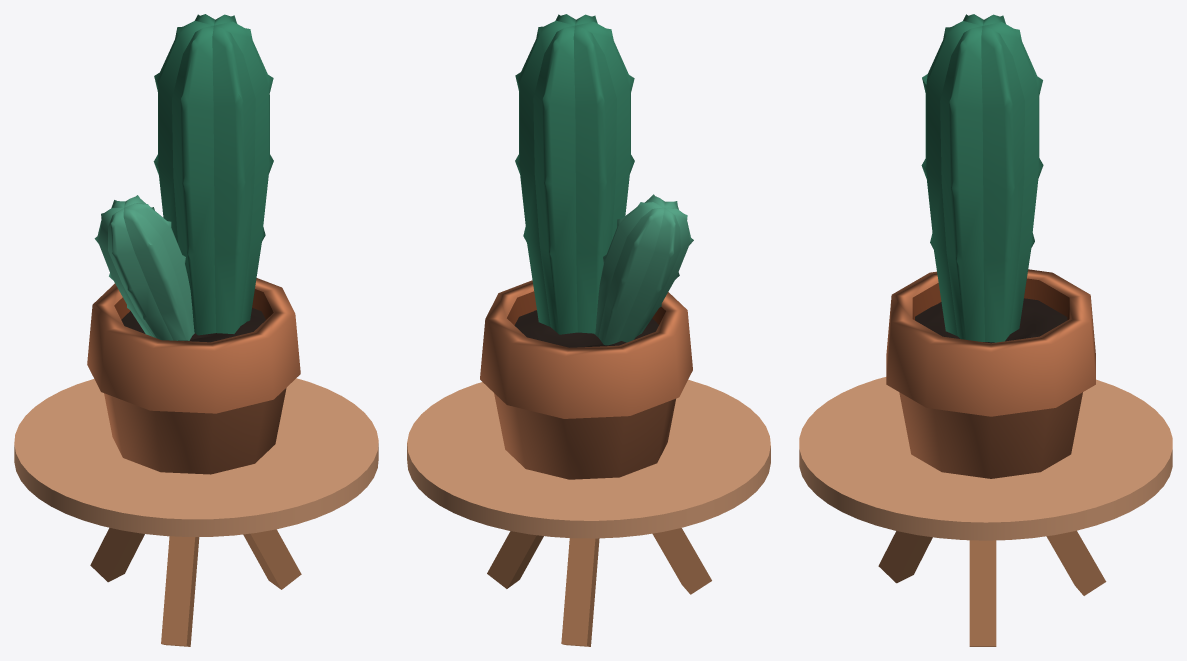
File: cactus.obj
3 views of the same model, side by side, from view 1: azimuth 30°, elevation 25°; view 2: azimuth 150°, elevation 25°; view 3: azimuth 270°, elevation 25° (orthographic). The views are drawn at different scales.
Visible parts, largest first — view 1: pasted__pasted__pCube1; view 2: pasted__pasted__pCube1; view 3: pasted__pasted__pCube1.
Boxes of the visible parts, x1,y1,x2,y2 form: pasted__pasted__pCube1: [14, 14, 378, 646]; pasted__pasted__pCube1: [407, 14, 770, 646]; pasted__pasted__pCube1: [799, 14, 1172, 646].
Bounding box in the file's own units: 1.4 × 2.45 × 1.4.
9 materials, 8 textured.
